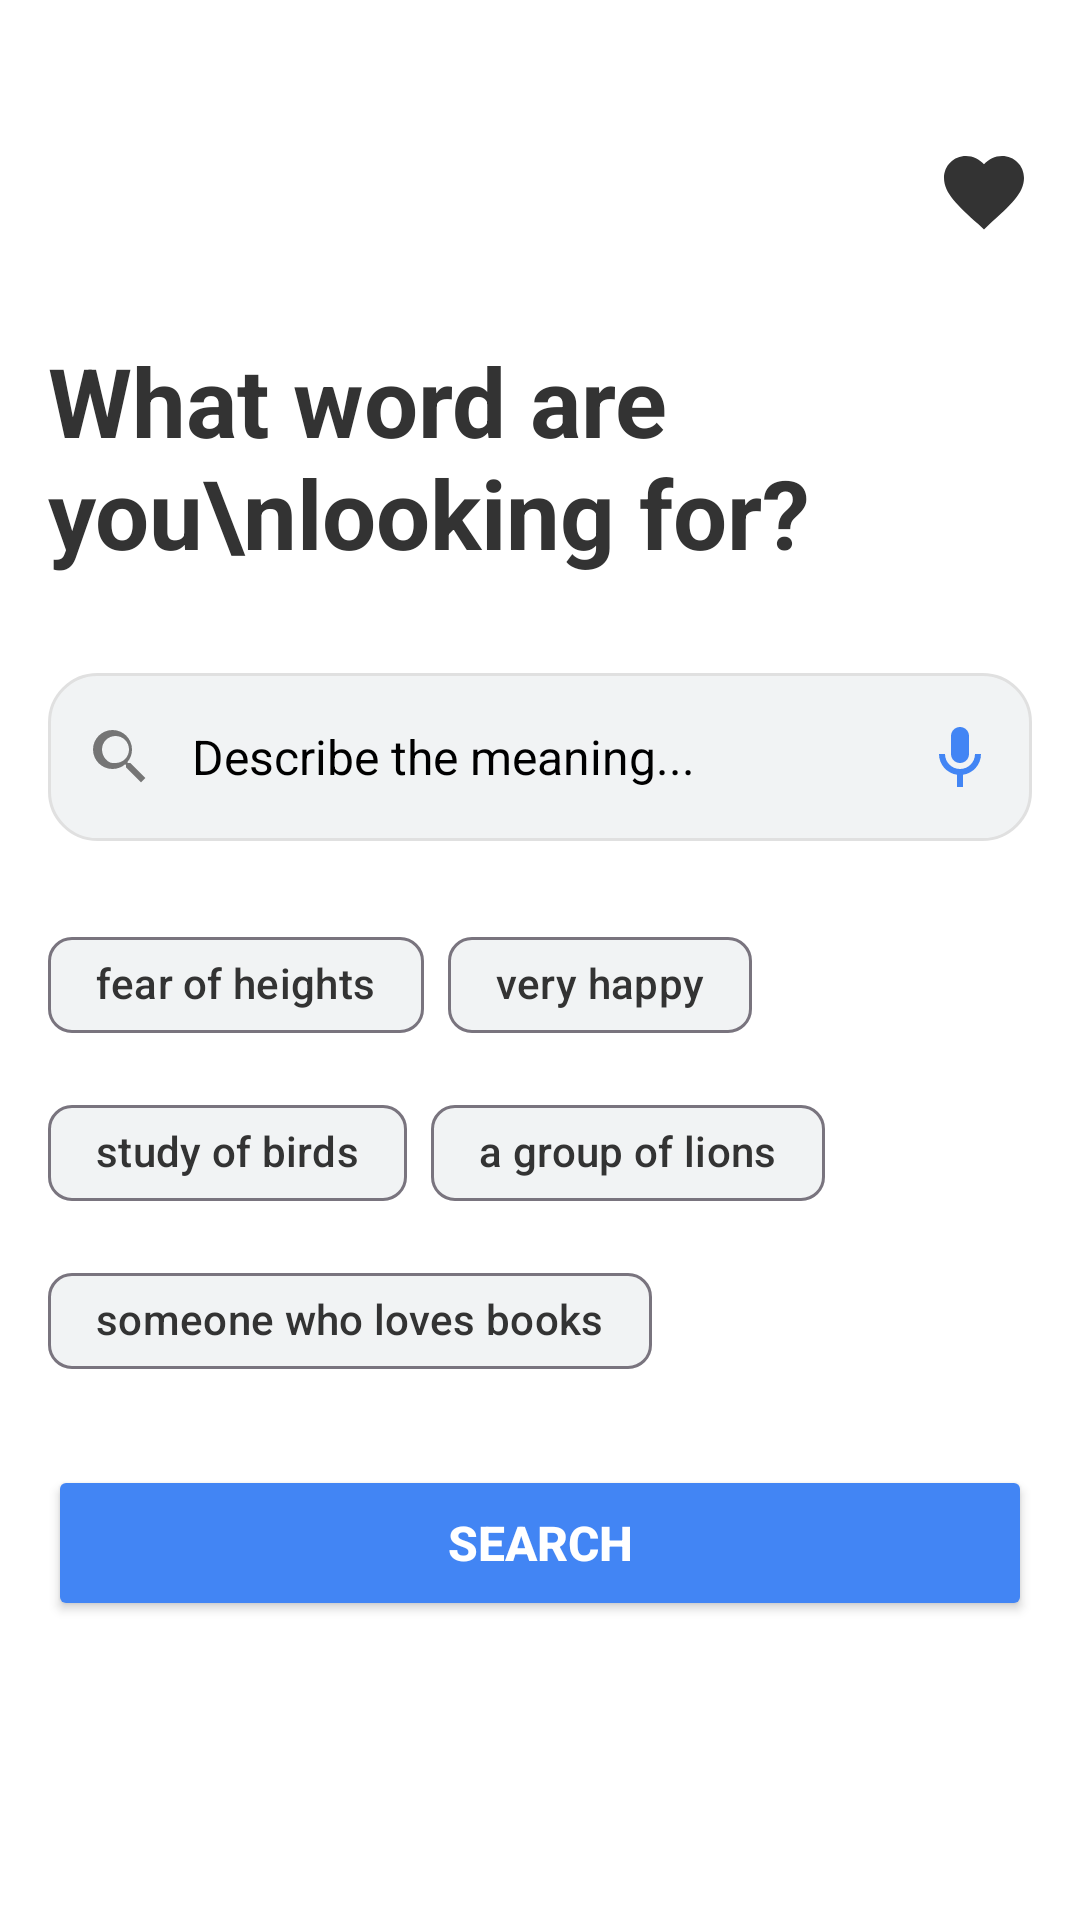

Locate icon controls on the screen. Image size 1080 × 1920, boxes as (x1, y1, x2, y2).
Favourites: (944, 156, 1024, 230)
mic: (939, 727, 981, 787)
search: (93, 730, 145, 782)
